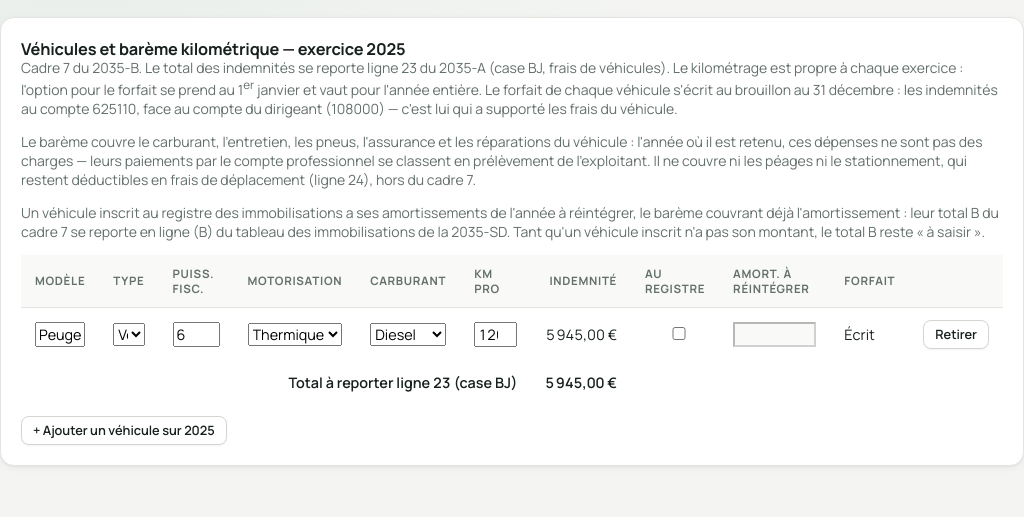
Test: retirer un véhicule : ce qui part se dit AVANT de partir › refuse, avant de demander, de retirer un véhicule dont le forfait est validé
What coordinates should you click on to do the following:
click the button "Retirer"
I would click on:
 (956, 334)
Its box is [923,320,989,349].
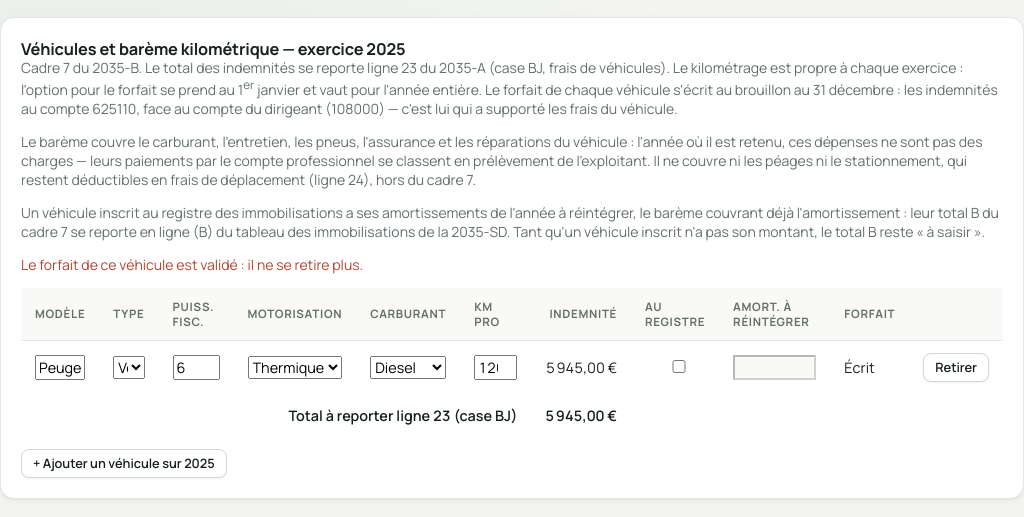
expect the text "Le forfait de ce véhicule est validé : il ne se retire plus." is shown: met, box [21,255,363,274]
